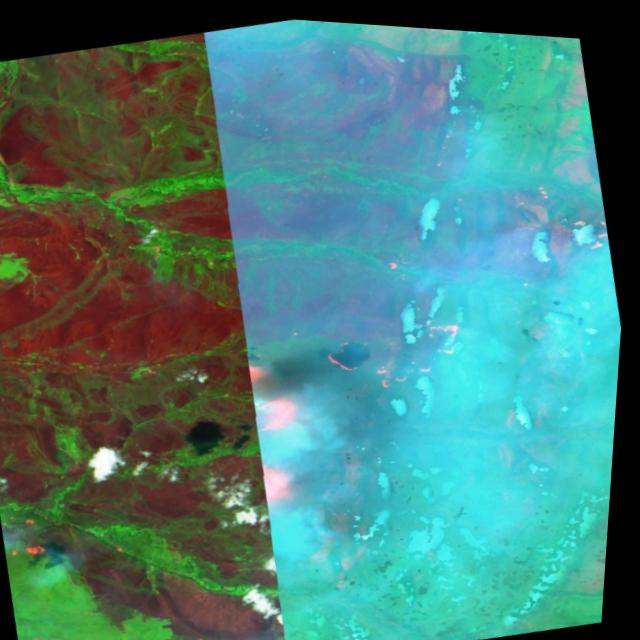fire: (282, 145, 633, 412), (231, 339, 338, 513), (25, 605, 189, 640), (4, 500, 64, 566)
